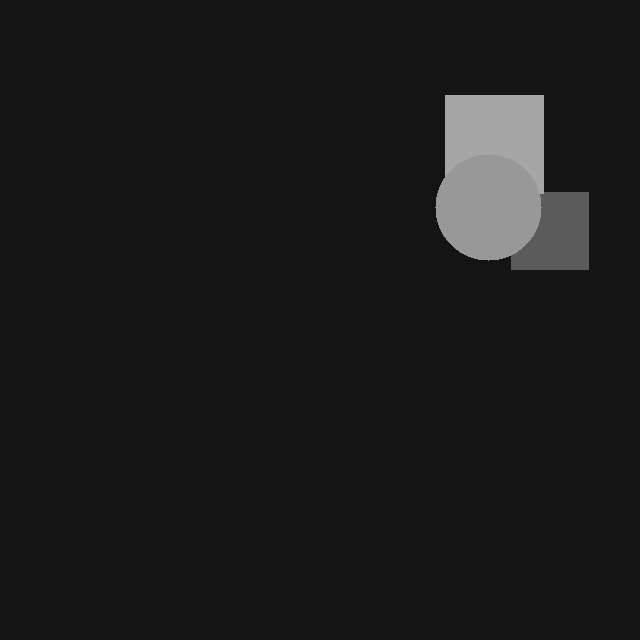circle: (435, 154, 541, 260)
square: (445, 95, 543, 193), (511, 192, 588, 269)
